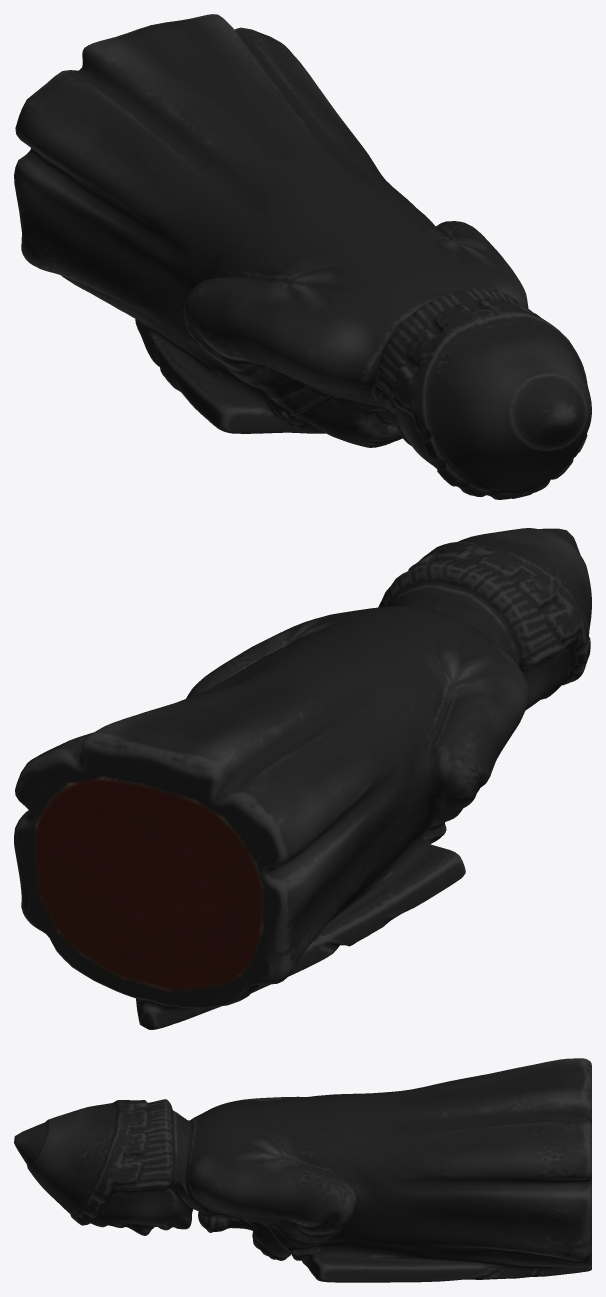
Rendered from bishop.obj.
3 views of the same model, one above another, from view 1: azimuth 30°, elevation 25°; view 2: azimuth 150°, elevation 25°; view 3: azimuth 270°, elevation 25° (orthographic). The views are drawn at different scales.
Visible parts, largest first — view 1: 12948_Stone_Chess_Bishop_Side_B; view 2: 12948_Stone_Chess_Bishop_Side_B; view 3: 12948_Stone_Chess_Bishop_Side_B.
Part boxes in pixels (left/top/right/bottom): 12948_Stone_Chess_Bishop_Side_B: left=14, top=14, right=591, bottom=499; 12948_Stone_Chess_Bishop_Side_B: left=14, top=528, right=591, bottom=1029; 12948_Stone_Chess_Bishop_Side_B: left=14, top=1058, right=591, bottom=1282.
Bounding box in the file's own units: 3.89 × 3.59 × 9.68.
